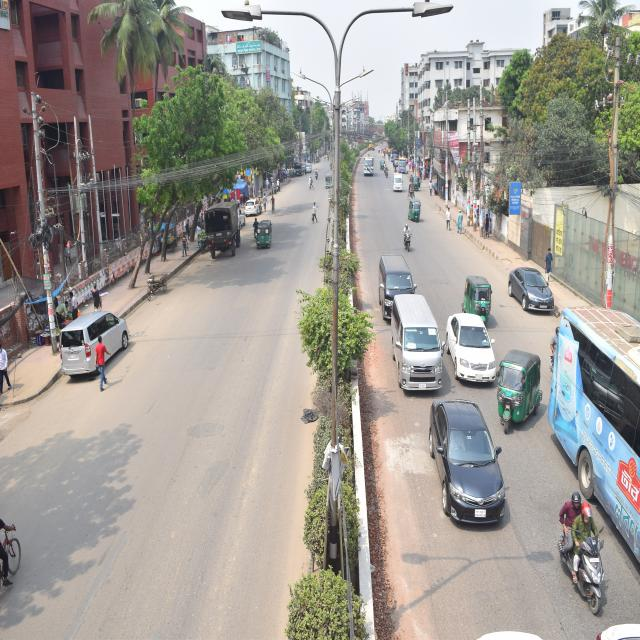bus: (545, 282, 640, 582), (355, 148, 377, 185)
car: (27, 276, 187, 399), (424, 384, 528, 569), (447, 299, 507, 405), (506, 247, 562, 341), (230, 192, 253, 233), (243, 189, 282, 212), (390, 164, 409, 205), (302, 155, 313, 174)
microbus: (386, 274, 450, 412), (366, 236, 420, 330)
motorbike: (560, 477, 616, 607), (398, 206, 421, 268), (251, 205, 261, 245), (268, 186, 280, 216), (314, 164, 320, 193)
truck: (208, 179, 248, 267)
